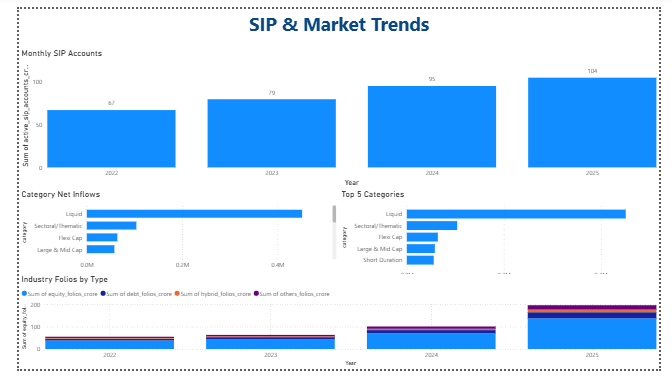

What the dashboard file says about the page in this screenshot:
{"tool":"powerbi","page":{"name":"SIP & Market Trends","canvas":[1280,720],"ordinal":3},"visuals":[{"type":"textbox","box":[0,0,1280,78],"z":0},{"type":"clusteredColumnChart","title":"Monthly SIP Accounts","fields":{"Category":["04_monthly_sip_inflows.month.Variation.Date Hierarchy.Year","04_monthly_sip_inflows.month.Variation.Date Hierarchy.Quarter","04_monthly_sip_inflows.month.Variation.Date Hierarchy.Month","04_monthly_sip_inflows.month.Variation.Date Hierarchy.Day"],"Y":["Sum(04_monthly_sip_inflows.active_sip_accounts_crore)"]},"box":[0,76.7,1280,283.3],"z":1},{"type":"clusteredBarChart","title":"Category Net Inflows","fields":{"Category":["05_category_inflows.category"],"Y":["Sum(05_category_inflows.net_inflow_crore)"]},"box":[0,360,640,170],"z":2},{"type":"clusteredBarChart","title":"Top 5 Categories","fields":{"Category":["05_category_inflows.category"],"Y":["Sum(05_category_inflows.net_inflow_crore)"]},"box":[640,360,640,200],"z":3},{"type":"columnChart","title":"Industry Folios by Type","fields":{"Category":["06_industry_folio_count.month.Variation.Date Hierarchy.Year","06_industry_folio_count.month.Variation.Date Hierarchy.Quarter","06_industry_folio_count.month.Variation.Date Hierarchy.Month","06_industry_folio_count.month.Variation.Date Hierarchy.Day"],"Y":["Sum(06_industry_folio_count.equity_folios_crore)","Sum(06_industry_folio_count.debt_folios_crore)","Sum(06_industry_folio_count.hybrid_folios_crore)","Sum(06_industry_folio_count.others_folios_crore)"]},"box":[0,530,1280,190],"z":4}]}

Visuals, with their boxes in screenshot pixels (x1, y1, x2, y2), scaled from the page's 1280x720 canvas onto the 672x386 screenshot:
textbox: detection(0, 0, 671, 42)
"Monthly SIP Accounts" clusteredColumnChart: detection(0, 41, 671, 193)
"Category Net Inflows" clusteredBarChart: detection(0, 193, 336, 284)
"Top 5 Categories" clusteredBarChart: detection(336, 193, 671, 300)
"Industry Folios by Type" columnChart: detection(0, 284, 671, 385)
